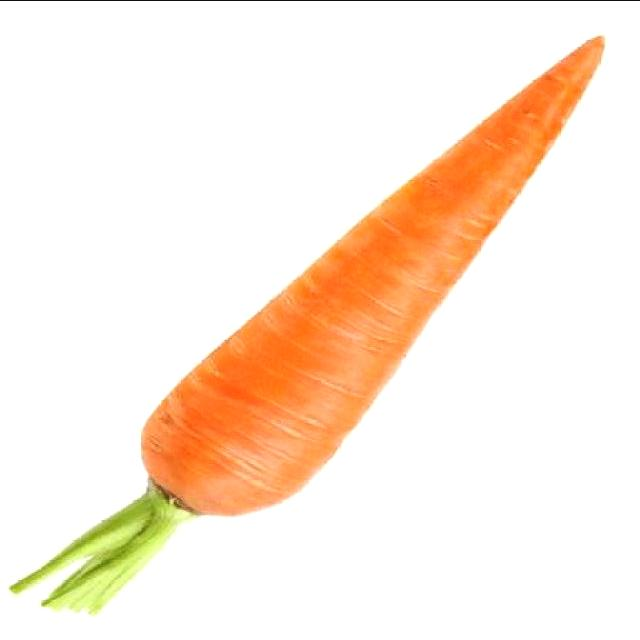carrot: (132, 29, 615, 518)
